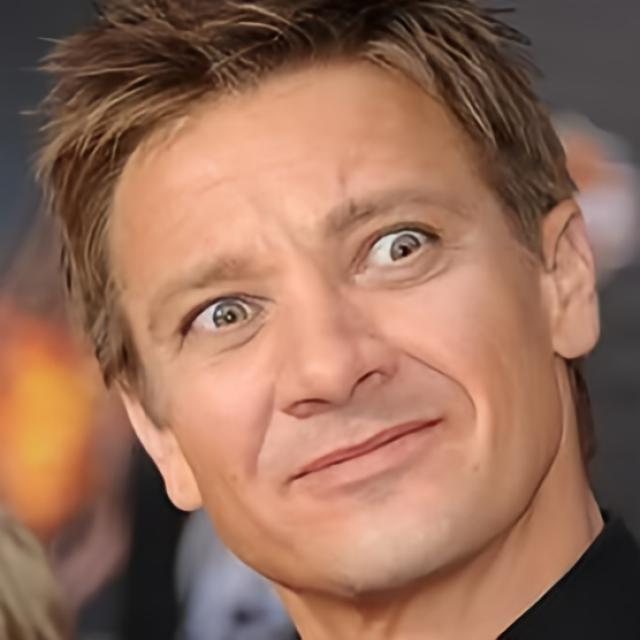fear: (100, 51, 542, 596)
